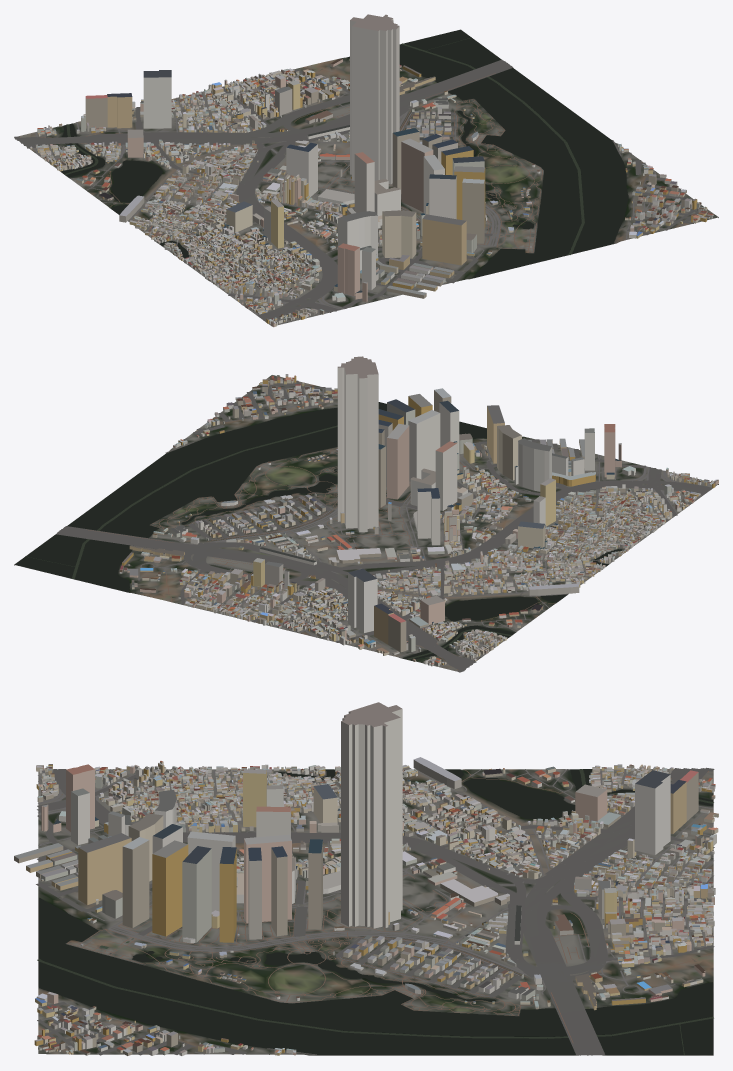
3 views of the same model, one above another, from view 1: azimuth 30°, elevation 25°; view 2: azimuth 150°, elevation 25°; view 3: azimuth 270°, elevation 25° (orthographic). The views are drawn at different scales.
Visible parts, largest first — view 1: buildings, ground, water, roads; view 2: buildings, ground, water, roads; view 3: buildings, ground, water, roads.
Part boxes in pixels (x1,y1,x2,y2): buildings: (30, 14, 713, 327); ground: (14, 32, 718, 326); water: (61, 29, 628, 278); roads: (14, 59, 698, 324); buildings: (119, 356, 718, 666); ground: (14, 375, 718, 671); water: (15, 402, 621, 660); roads: (56, 380, 716, 672); buildings: (14, 702, 718, 1055); ground: (38, 769, 713, 1055); water: (37, 769, 713, 1055); roads: (36, 767, 714, 1055).
Bounding box in the file's own units: 1428 × 466 × 1462.
